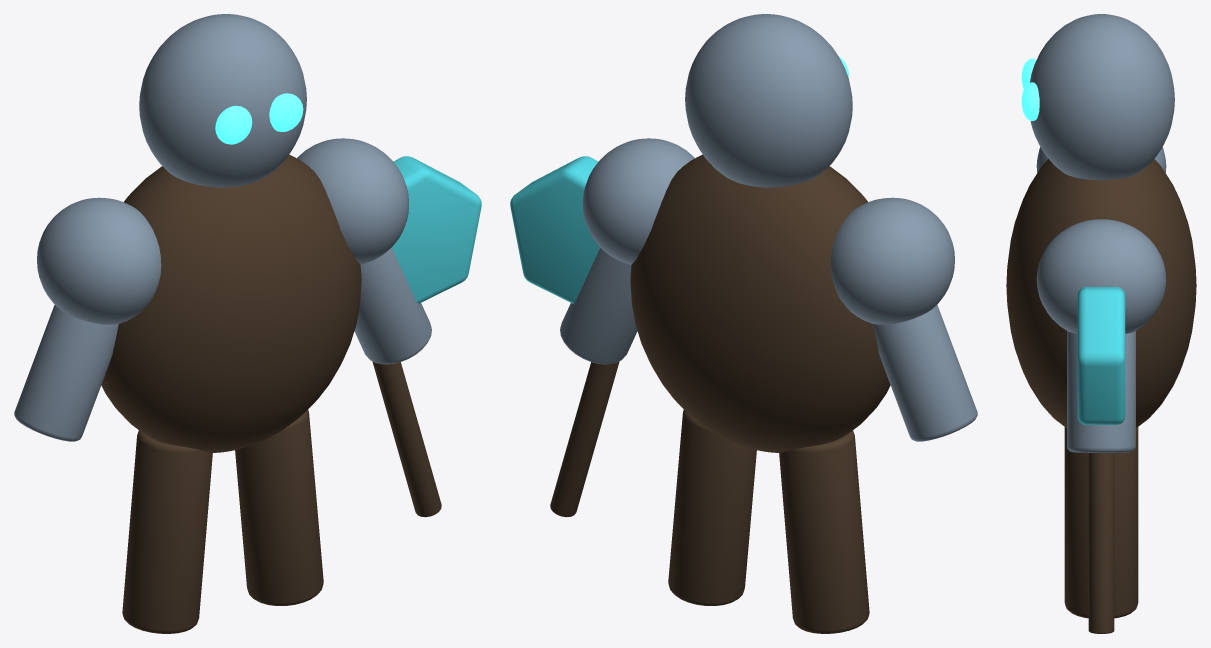
The model's file is humanoid_v6.glb.
The picture shows the model from 3 angles, left to right: view 1: azimuth 30°, elevation 25°; view 2: azimuth 150°, elevation 25°; view 3: azimuth 270°, elevation 25°; orthographic projection. The views are drawn at different scales.
Visible parts, largest first — view 1: BARBARIAN_TORSO_SECONDARY, BARBARIAN_HEAD_PRIMARY, BARBARIAN_LEG_SECONDARY, BARBARIAN_LEG_SECONDARY.001, BARBARIAN_SHOULDER_PRIMARY, BARBARIAN_ARM_PRIMARY, BARBARIAN_AXE_HEAD_ACCENT, BARBARIAN_SHOULDER_PRIMARY.001, BARBARIAN_ARM_PRIMARY.001, BARBARIAN_AXE_HAFT_SECONDARY, EYE_EMISSIVE, EYE_EMISSIVE.001; view 2: BARBARIAN_TORSO_SECONDARY, BARBARIAN_HEAD_PRIMARY, BARBARIAN_LEG_SECONDARY, BARBARIAN_LEG_SECONDARY.001, BARBARIAN_SHOULDER_PRIMARY, BARBARIAN_ARM_PRIMARY, BARBARIAN_AXE_HEAD_ACCENT, BARBARIAN_SHOULDER_PRIMARY.001, BARBARIAN_ARM_PRIMARY.001, BARBARIAN_AXE_HAFT_SECONDARY; view 3: BARBARIAN_TORSO_SECONDARY, BARBARIAN_HEAD_PRIMARY, BARBARIAN_SHOULDER_PRIMARY.001, BARBARIAN_LEG_SECONDARY.001, BARBARIAN_AXE_HEAD_ACCENT, BARBARIAN_AXE_HAFT_SECONDARY, BARBARIAN_ARM_PRIMARY.001, EYE_EMISSIVE.001, BARBARIAN_SHOULDER_PRIMARY.
Boxes of the visible parts, x1,y1,x2,y2 form: BARBARIAN_TORSO_SECONDARY: (101,154,361,452); BARBARIAN_HEAD_PRIMARY: (139,14,306,187); BARBARIAN_LEG_SECONDARY: (122,430,212,633); BARBARIAN_LEG_SECONDARY.001: (235,409,323,605); BARBARIAN_SHOULDER_PRIMARY: (37,197,161,324); BARBARIAN_ARM_PRIMARY: (14,305,118,441); BARBARIAN_AXE_HEAD_ACCENT: (392,156,481,303); BARBARIAN_SHOULDER_PRIMARY.001: (297,138,408,264); BARBARIAN_ARM_PRIMARY.001: (354,247,431,364); BARBARIAN_AXE_HAFT_SECONDARY: (372,361,441,517); EYE_EMISSIVE: (215,105,252,144); EYE_EMISSIVE.001: (269,93,303,131); BARBARIAN_TORSO_SECONDARY: (630,154,890,452); BARBARIAN_HEAD_PRIMARY: (685,14,852,187); BARBARIAN_LEG_SECONDARY: (779,430,869,633); BARBARIAN_LEG_SECONDARY.001: (668,409,756,605); BARBARIAN_SHOULDER_PRIMARY: (830,197,954,324); BARBARIAN_ARM_PRIMARY: (873,305,977,441); BARBARIAN_AXE_HEAD_ACCENT: (510,156,599,303); BARBARIAN_SHOULDER_PRIMARY.001: (583,138,694,264); BARBARIAN_ARM_PRIMARY.001: (560,247,637,364); BARBARIAN_AXE_HAFT_SECONDARY: (550,361,619,517); BARBARIAN_TORSO_SECONDARY: (1006,159,1196,427); BARBARIAN_HEAD_PRIMARY: (1030,14,1174,180); BARBARIAN_SHOULDER_PRIMARY.001: (1036,219,1166,333); BARBARIAN_LEG_SECONDARY.001: (1064,428,1138,618); BARBARIAN_AXE_HEAD_ACCENT: (1077,286,1125,424); BARBARIAN_AXE_HAFT_SECONDARY: (1088,453,1114,633); BARBARIAN_ARM_PRIMARY.001: (1067,331,1135,452); EYE_EMISSIVE.001: (1021,82,1039,120); BARBARIAN_SHOULDER_PRIMARY: (1036,147,1166,172).
Bounding box in the file's own units: 2.31 × 2.86 × 0.88.
